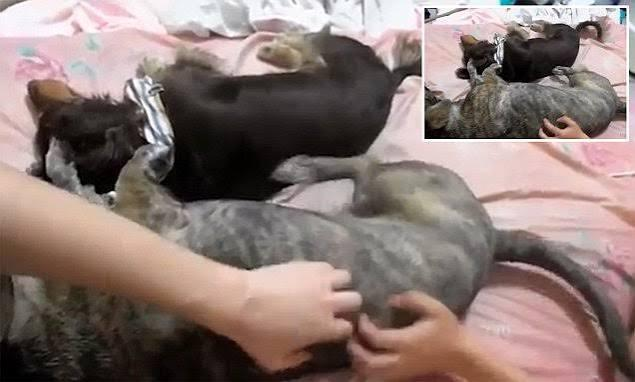adult_dog: (1, 143, 626, 372), (33, 34, 421, 200), (425, 66, 617, 138), (456, 23, 604, 83)
